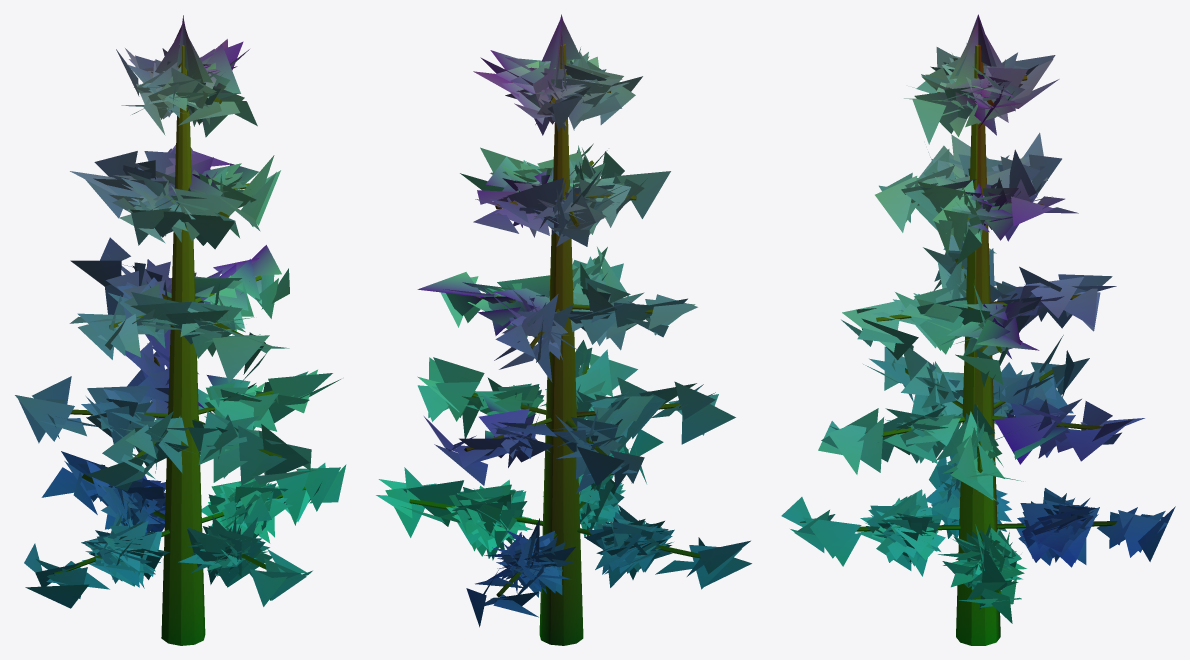
File: ecological_conifer_young_02.glb
3 renders of one model, left to right at view 1: azimuth 30°, elevation 25°; view 2: azimuth 150°, elevation 25°; view 3: azimuth 270°, elevation 25°, orthographic.
Parts seen in each view (by area): view 1: ecological_conifer_young_02; view 2: ecological_conifer_young_02; view 3: ecological_conifer_young_02.
Part boxes in pixels (x1,y1,x2,y2): ecological_conifer_young_02: (15,15,346,645); ecological_conifer_young_02: (376,14,751,645); ecological_conifer_young_02: (781,14,1175,645).
Size of the model in its own units: 6.75 by 11.54 by 6.63.
